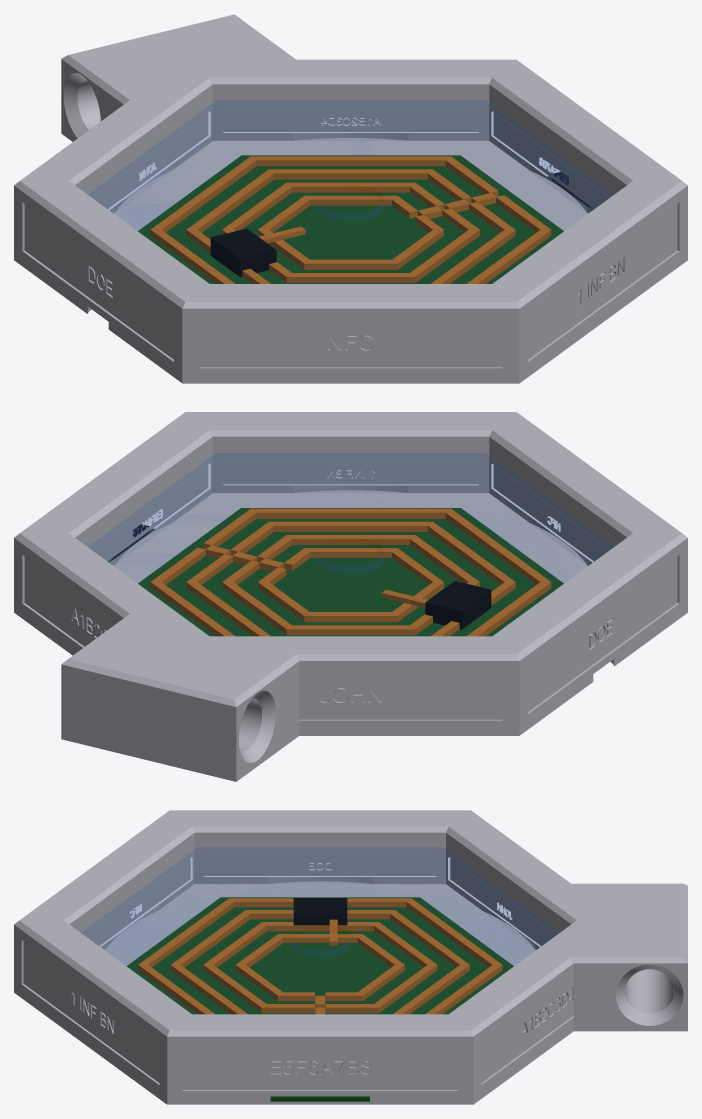
The model's file is electronics.gltf.
The picture shows the model from 3 angles, top to bottom: view 1: azimuth 30°, elevation 25°; view 2: azimuth 150°, elevation 25°; view 3: azimuth 270°, elevation 25°; orthographic projection. The views are drawn at different scales.
Size of the model in its own units: 0.0348 by 0.0052 by 0.044.
